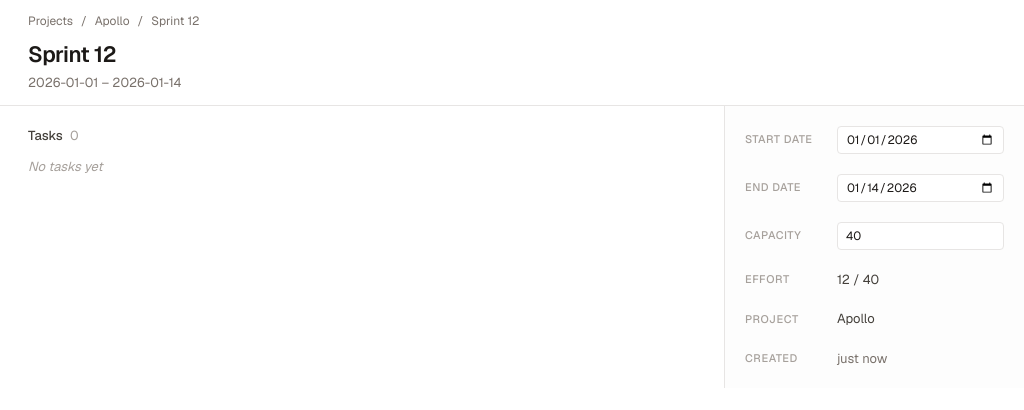
SprintDetailPage click-to-edit title — manager › replaces the heading with an editable input on click
Check: the date field showing "2026-01-01" next to "Start date" is shown, box [837,126,1004,154]
What coordinates should you click on to do the following:
click the heading "Sprint 12"
I would click on:
 (72, 54)
Its box is [28,40,116,68].
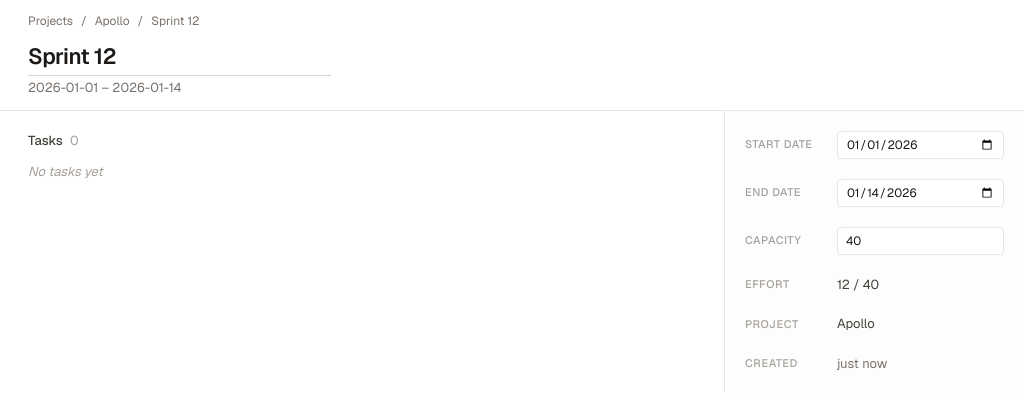
Check: the field showing "Sprint 12" is shown, box [28,38,331,76]
